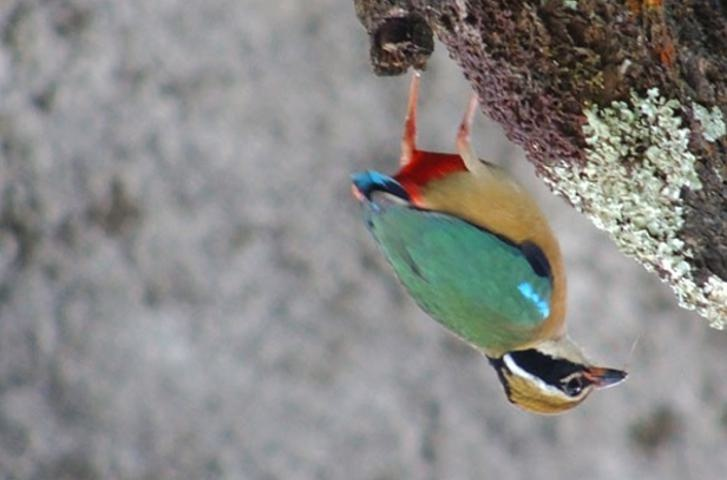pitta: (352, 69, 665, 449)
